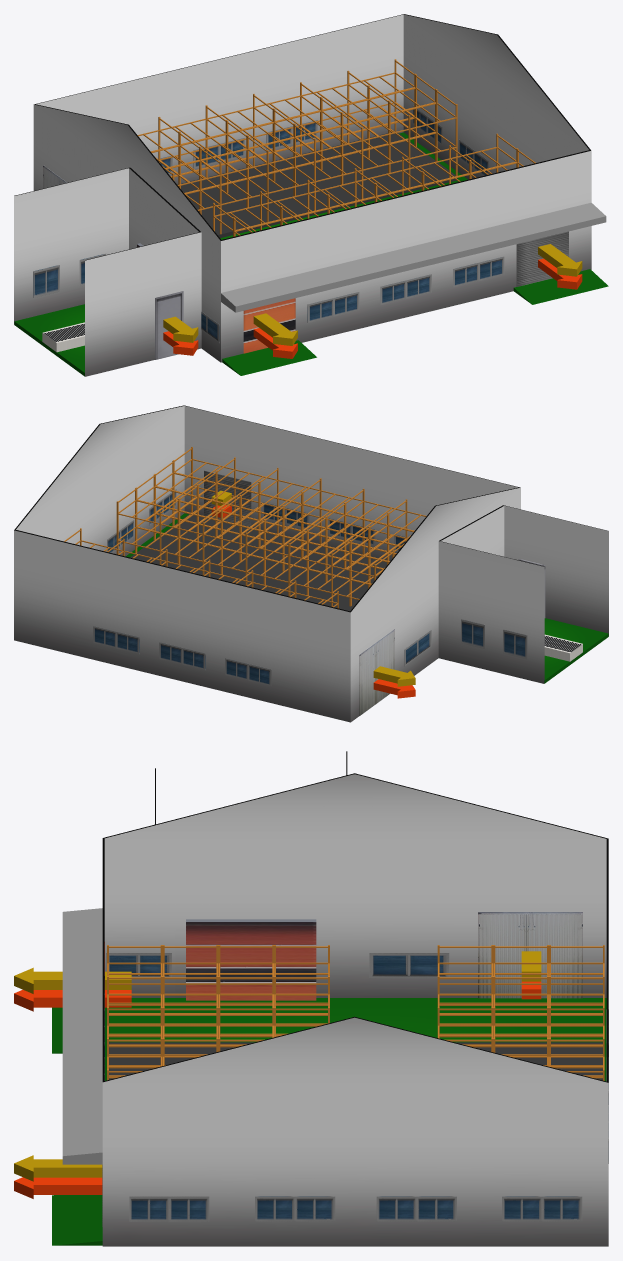
Rendered from soulbrain_T2-6-1F.glb.
The picture shows the model from 3 angles, top to bottom: view 1: azimuth 30°, elevation 25°; view 2: azimuth 150°, elevation 25°; view 3: azimuth 270°, elevation 25°; orthographic projection. The views are drawn at different scales.
Visible parts, largest first — view 1: Box002, Box006, Rectangle1127, Box005, Rectangle1128, Rectangle1129, Box2307, T2-6-1F, Box2308, Box007, Box2309, Box003 (+8 smaller); view 2: Box002, Rectangle1126, Box005, Rectangle1125, Rectangle1123, Rectangle1124, Box2305, T2-6-1F, Box2304, Box2303, Box008, Box003 (+5 smaller); view 3: Box002, Box007, Box005, Box006, T2-6-1F, Box008, Rectangle1123, Rectangle1129, Rectangle1124, Rectangle1128, Rectangle1127, Rectangle1125 (+9 smaller).
Part boxes in pixels (<box>): Box002: <box>14,14,591,376</box>; Box006: <box>221,202,606,312</box>; Rectangle1127: <box>162,89,457,234</box>; Box005: <box>160,106,504,343</box>; Rectangle1128: <box>151,74,436,212</box>; Rectangle1129: <box>137,59,415,192</box>; Box2307: <box>204,162,457,238</box>; T2-6-1F: <box>14,243,183,376</box>; Box2308: <box>191,147,435,218</box>; Box007: <box>220,132,608,375</box>; Box2309: <box>177,132,414,201</box>; Box003: <box>243,231,568,353</box>; Box002: <box>14,405,608,722</box>; Rectangle1126: <box>116,488,393,606</box>; Box005: <box>93,489,431,686</box>; Rectangle1125: <box>136,474,404,605</box>; Rectangle1123: <box>173,447,426,567</box>; Rectangle1124: <box>154,460,413,586</box>; Box2305: <box>137,540,365,606</box>; T2-6-1F: <box>461,559,608,683</box>; Box2304: <box>156,527,378,591</box>; Box2303: <box>174,513,390,575</box>; Box008: <box>359,629,394,715</box>; Box003: <box>204,470,251,526</box>; Box002: <box>102,751,608,1246</box>; Box007: <box>52,998,606,1245</box>; Box005: <box>104,953,608,1221</box>; Box006: <box>62,908,102,1164</box>; T2-6-1F: <box>186,919,316,1000</box>; Box008: <box>478,912,582,998</box>; Rectangle1123: <box>107,945,162,1080</box>; Rectangle1129: <box>549,945,604,1080</box>; Rectangle1124: <box>162,945,218,1065</box>; Rectangle1128: <box>493,945,548,1066</box>; Rectangle1127: <box>437,945,493,1052</box>; Rectangle1125: <box>218,945,273,1051</box>.
Bounding box in the file's own units: 27.55 × 9.16 × 21.56.
18 materials, 13 textured.
